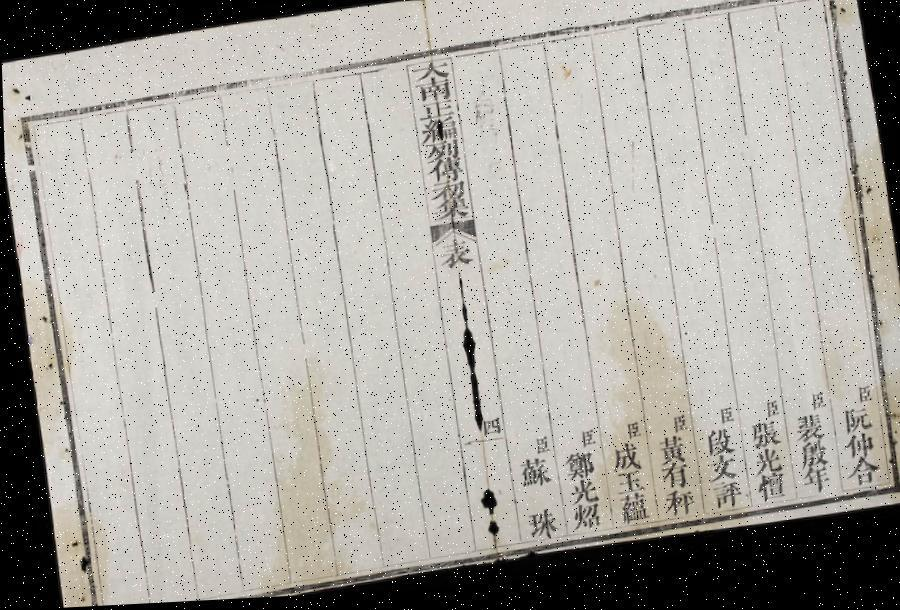c: (434, 241, 476, 276), (520, 510, 558, 546), (840, 462, 879, 496), (611, 498, 649, 532), (512, 460, 550, 494), (558, 454, 596, 487), (704, 486, 742, 518), (657, 494, 695, 526), (416, 122, 459, 150), (651, 440, 686, 474), (606, 446, 642, 479), (743, 426, 780, 458), (789, 419, 825, 451), (413, 82, 454, 110), (424, 162, 464, 190), (699, 432, 734, 464), (750, 479, 786, 510), (792, 447, 828, 478), (702, 460, 738, 491), (653, 467, 690, 497), (410, 62, 452, 88), (836, 413, 872, 443), (565, 506, 601, 536), (746, 454, 782, 484), (422, 143, 462, 170), (838, 439, 874, 468), (562, 483, 598, 512), (796, 473, 830, 503), (430, 202, 470, 227), (428, 185, 468, 210), (416, 104, 456, 128), (609, 475, 643, 502), (572, 431, 596, 455), (664, 418, 687, 442), (526, 438, 550, 461), (710, 411, 734, 434), (618, 424, 640, 448), (850, 390, 872, 414), (804, 396, 826, 420), (758, 404, 780, 427), (478, 419, 500, 442)
